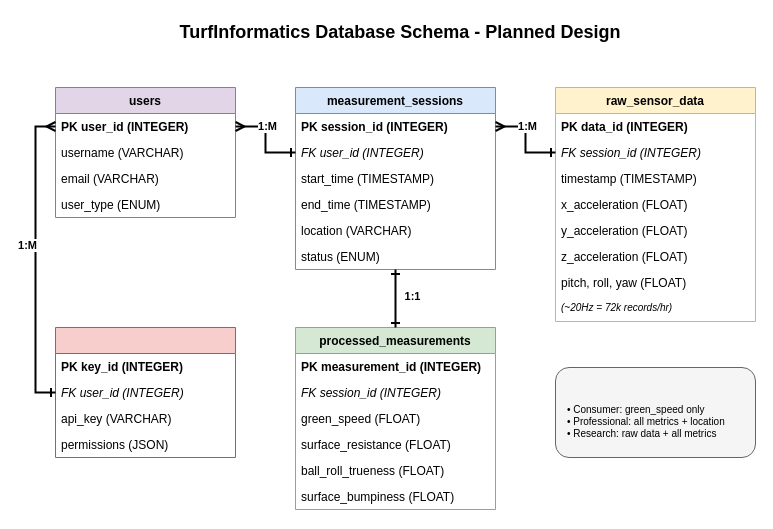
Some shapes in this 773 by 529 pixel diagram are drawn without their labels. The box of each missing label's shape, as (x1, y1, x2, y2) in pixels:
Access Control Tiers:: (554, 366, 756, 458)
api_keys: (54, 326, 236, 458)
